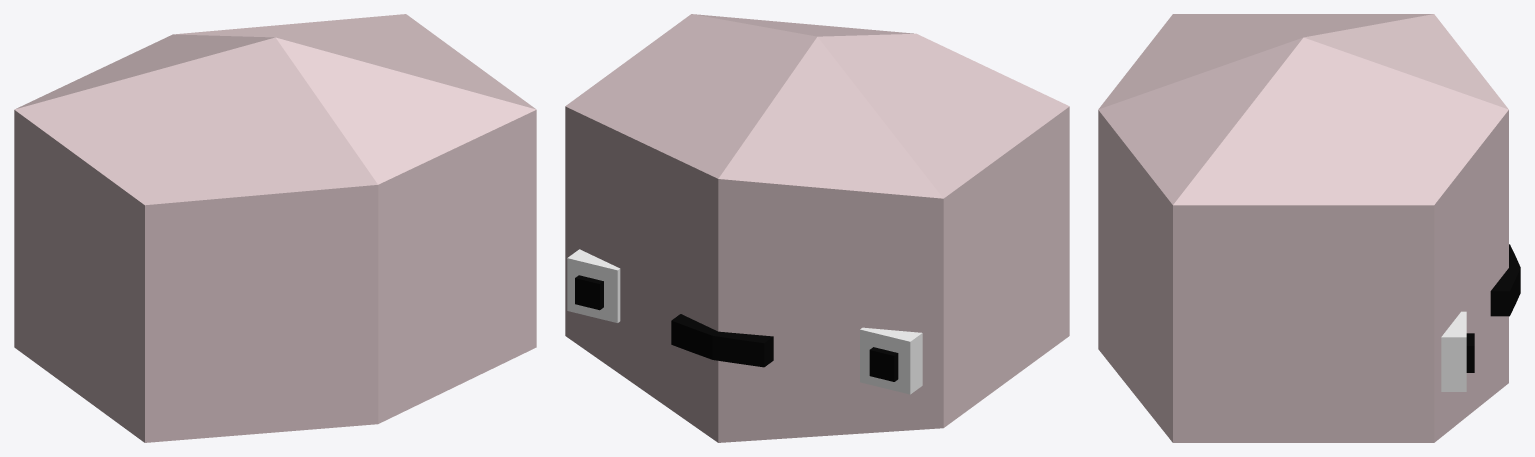
Rendered from CharacterHeadPink.fbx.
The picture shows the model from 3 angles, left to right: view 1: azimuth 30°, elevation 25°; view 2: azimuth 150°, elevation 25°; view 3: azimuth 270°, elevation 25°; orthographic projection. The views are drawn at different scales.
Visible parts, largest first — view 1: head.001; view 2: head.001, MOUTH.001, EYEL.001, EYER.001, IRISL.001, IRISR.001; view 3: head.001, EYER.001, MOUTH.001.
Boxes of the visible parts, bbox=[...] form: head.001: bbox=[14, 14, 536, 442]; head.001: bbox=[565, 14, 1069, 442]; MOUTH.001: bbox=[671, 314, 773, 367]; EYEL.001: bbox=[860, 327, 922, 394]; EYER.001: bbox=[567, 249, 620, 322]; IRISL.001: bbox=[869, 347, 898, 381]; IRISR.001: bbox=[575, 275, 603, 310]; head.001: bbox=[1098, 14, 1508, 442]; EYER.001: bbox=[1441, 311, 1466, 391]; MOUTH.001: bbox=[1490, 244, 1520, 316].
Bounding box in the file's own units: 157 × 132 × 147.
